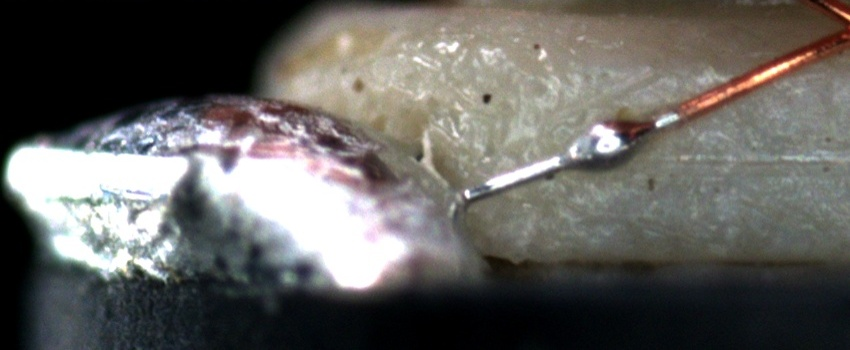CL: (825, 8, 850, 52)
DL: (479, 49, 850, 113), (639, 130, 850, 189)
TB: (570, 111, 654, 183)
TS: (459, 110, 679, 201)
TTCW: (468, 83, 731, 204)
